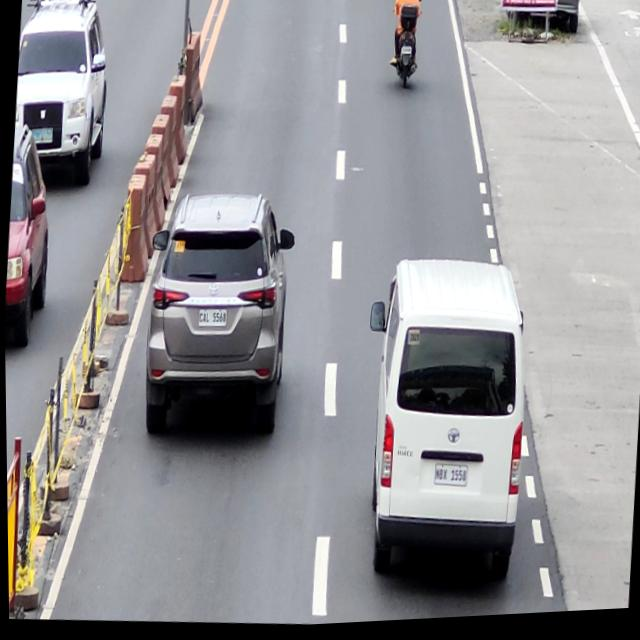Car: (351, 253, 536, 593), (136, 188, 299, 451)
License-Plate: (432, 467, 466, 493), (195, 308, 227, 329), (399, 49, 412, 59)
Motorcycle: (387, 0, 425, 95)
